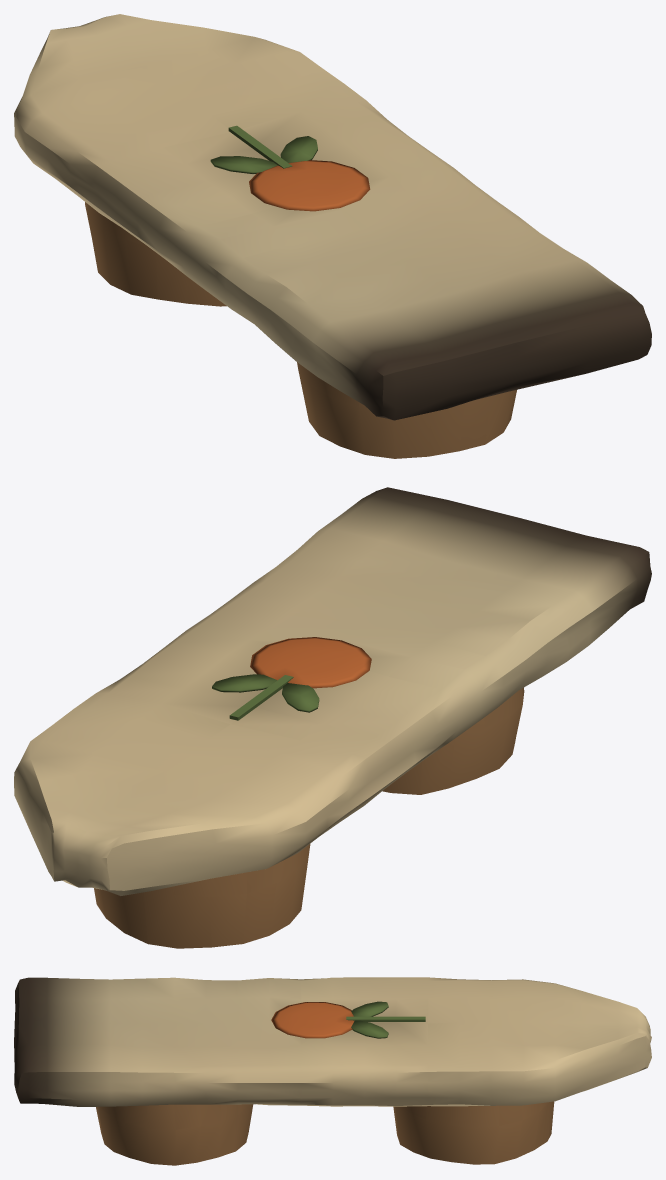
Rendered from mire_plant_label_b.glb.
The picture shows the model from 3 angles, top to bottom: view 1: azimuth 30°, elevation 25°; view 2: azimuth 150°, elevation 25°; view 3: azimuth 270°, elevation 25°; orthographic projection. The views are drawn at different scales.
Visible parts, largest first — view 1: mire_plant_label_b; view 2: mire_plant_label_b; view 3: mire_plant_label_b.
Boxes of the visible parts, x1=… form: mire_plant_label_b: x1=14, y1=14, x2=651, y2=458; mire_plant_label_b: x1=14, y1=487, x2=651, y2=948; mire_plant_label_b: x1=14, y1=977, x2=651, y2=1165.
Bounding box in the file's own units: 2.65 × 1.48 × 7.24.
